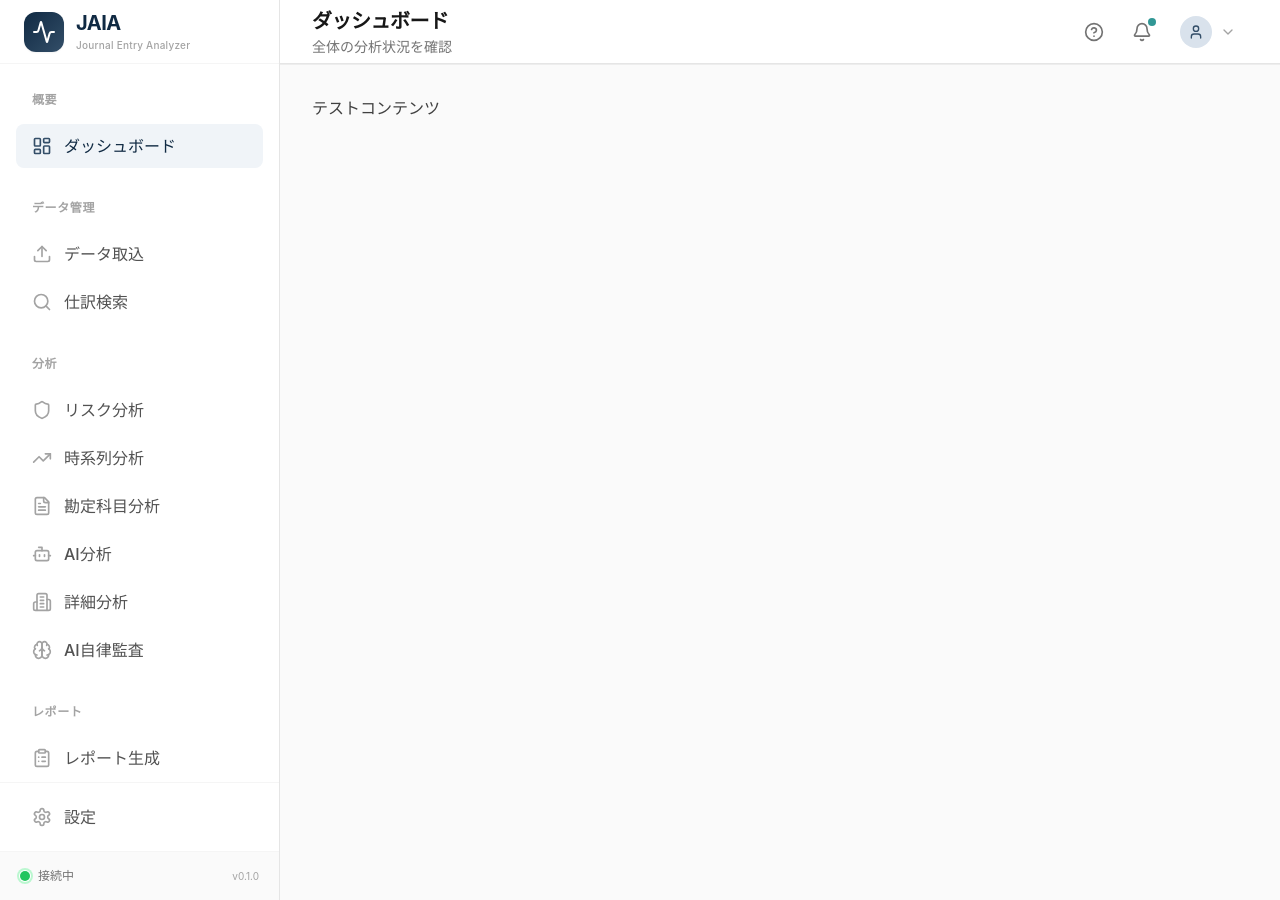
Test: Layout › toggles help panel
// Click help button (now uses aria-label instead of title)
Step 1. Click the button named "ヘルプを表示" → (1094, 32), box [1076,14,1112,50]
(page scrolled)
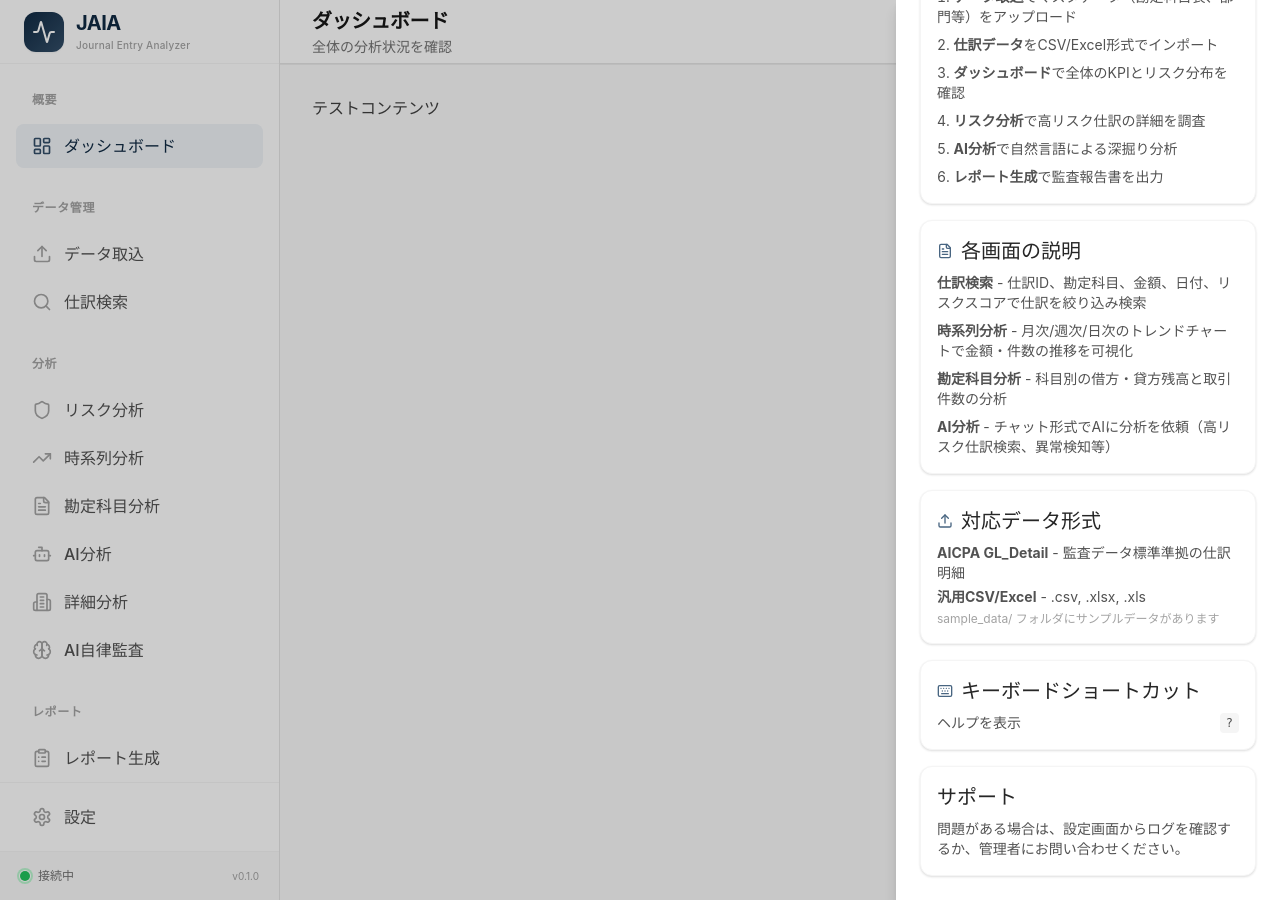
Check: the heading "サポート" is shown, box [937,785,1017,809]
